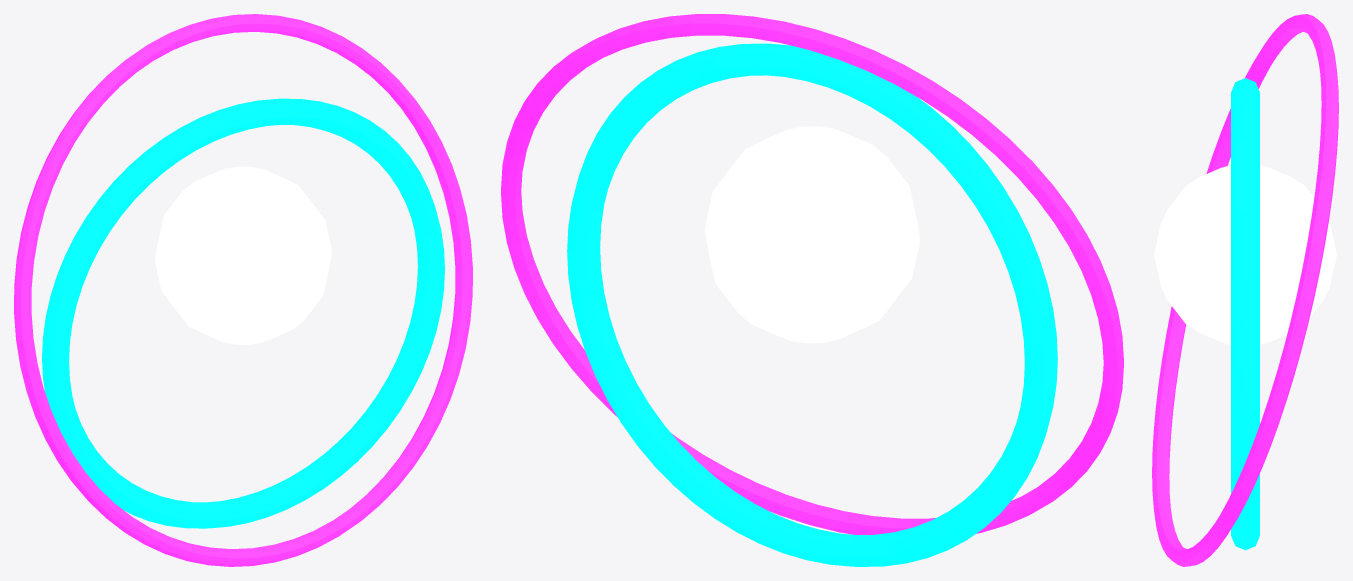
Rendered from orbit_spark.glb.
The picture shows the model from 3 angles, left to right: view 1: azimuth 30°, elevation 25°; view 2: azimuth 150°, elevation 25°; view 3: azimuth 270°, elevation 25°; orthographic projection. The views are drawn at different scales.
Visible parts, largest first — view 1: OrbitSparkCyanLoop, OrbitSparkMagentaTiltTrace, OrbitSparkWhiteCore; view 2: OrbitSparkCyanLoop, OrbitSparkWhiteCore, OrbitSparkMagentaTiltTrace; view 3: OrbitSparkWhiteCore, OrbitSparkMagentaTiltTrace, OrbitSparkCyanLoop.
Part boxes in pixels (x1,y1,x2,y2): OrbitSparkCyanLoop: [42, 98, 444, 528]; OrbitSparkMagentaTiltTrace: [14, 14, 472, 566]; OrbitSparkWhiteCore: [155, 166, 331, 344]; OrbitSparkCyanLoop: [567, 43, 1057, 566]; OrbitSparkWhiteCore: [704, 126, 920, 343]; OrbitSparkMagentaTiltTrace: [501, 14, 1123, 534]; OrbitSparkWhiteCore: [1154, 165, 1336, 344]; OrbitSparkMagentaTiltTrace: [1152, 14, 1338, 566]; OrbitSparkCyanLoop: [1231, 78, 1259, 550].
Size of the model in its own units: 0.9142 by 0.8801 by 0.3034.
